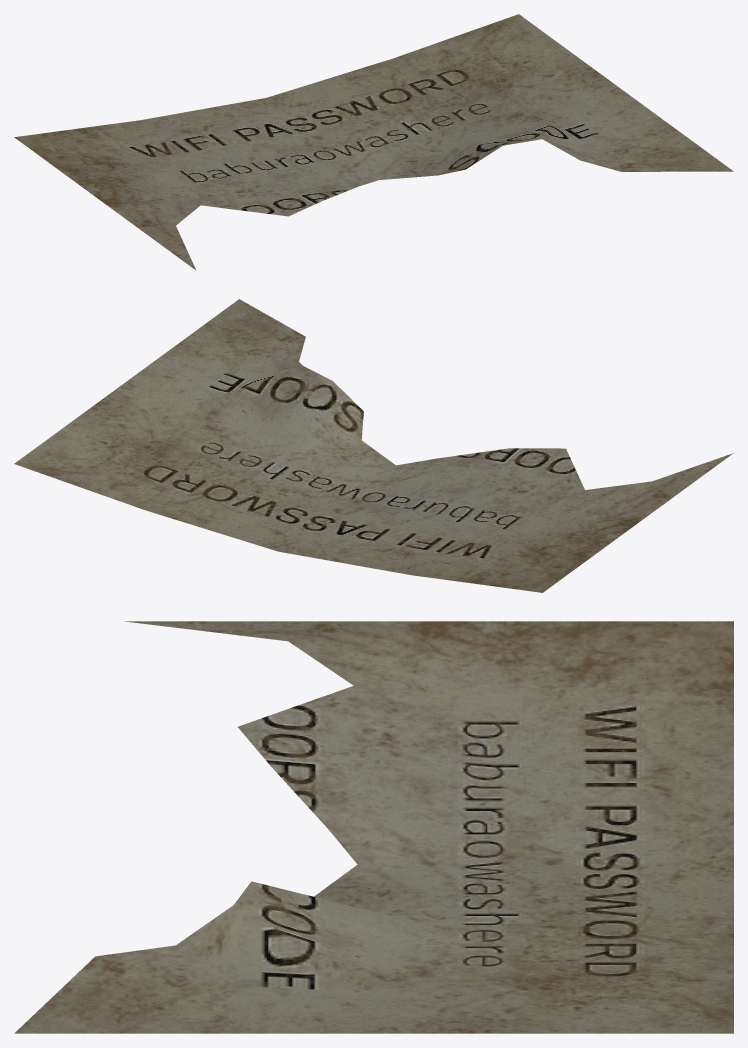
The model's file is Passcode_01.FBX.
3 views of the same model, one above another, from view 1: azimuth 30°, elevation 25°; view 2: azimuth 150°, elevation 25°; view 3: azimuth 270°, elevation 25° (orthographic). The views are drawn at different scales.
Parts seen in each view (by area): view 1: Passcode_01; view 2: Passcode_01; view 3: Passcode_01.
Boxes of the visible parts, bbox=[...] form: Passcode_01: bbox=[14, 14, 733, 270]; Passcode_01: bbox=[14, 299, 733, 592]; Passcode_01: bbox=[14, 621, 733, 1033].
Size of the model in its own units: 26.73 by 1.89 by 19.73.
